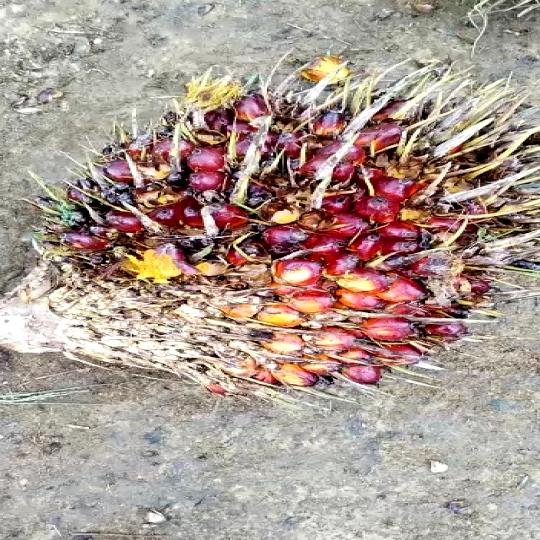masak: (0, 76, 540, 415)
